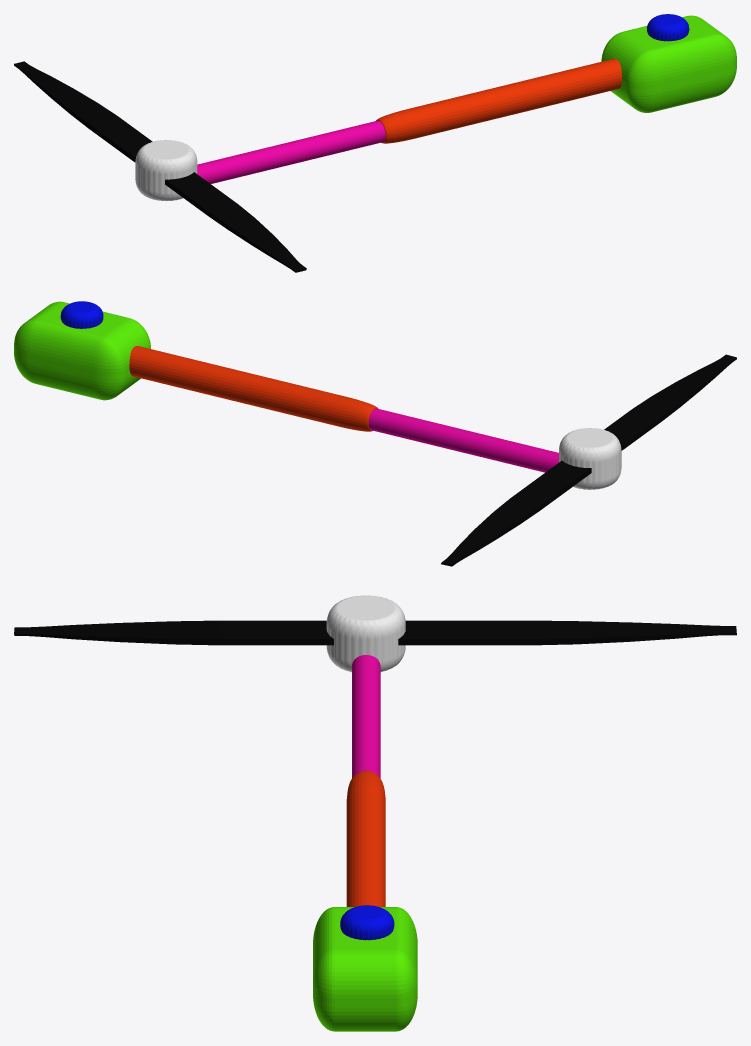
Rendered from GrassTool.fbx.
3 renders of one model, top to bottom at view 1: azimuth 30°, elevation 25°; view 2: azimuth 150°, elevation 25°; view 3: azimuth 270°, elevation 25°, orthographic. The views are drawn at different scales.
Visible parts, largest first — view 1: Cube.002, Cube.001, Cylinder.001; view 2: Cube.002, Cube.001, Cylinder.001; view 3: Cube.002, Cube.001, Cylinder.001.
Boxes of the visible parts, x1,y1,x2,y2 form: Cube.002: [197, 14, 736, 183]; Cube.001: [14, 61, 306, 272]; Cylinder.001: [135, 140, 197, 200]; Cube.002: [14, 301, 558, 472]; Cube.001: [441, 354, 736, 566]; Cylinder.001: [559, 428, 621, 489]; Cube.002: [313, 655, 417, 1031]; Cube.001: [14, 620, 736, 645]; Cylinder.001: [326, 595, 405, 672].
Size of the model in its own units: 220 by 27.07 by 184.
